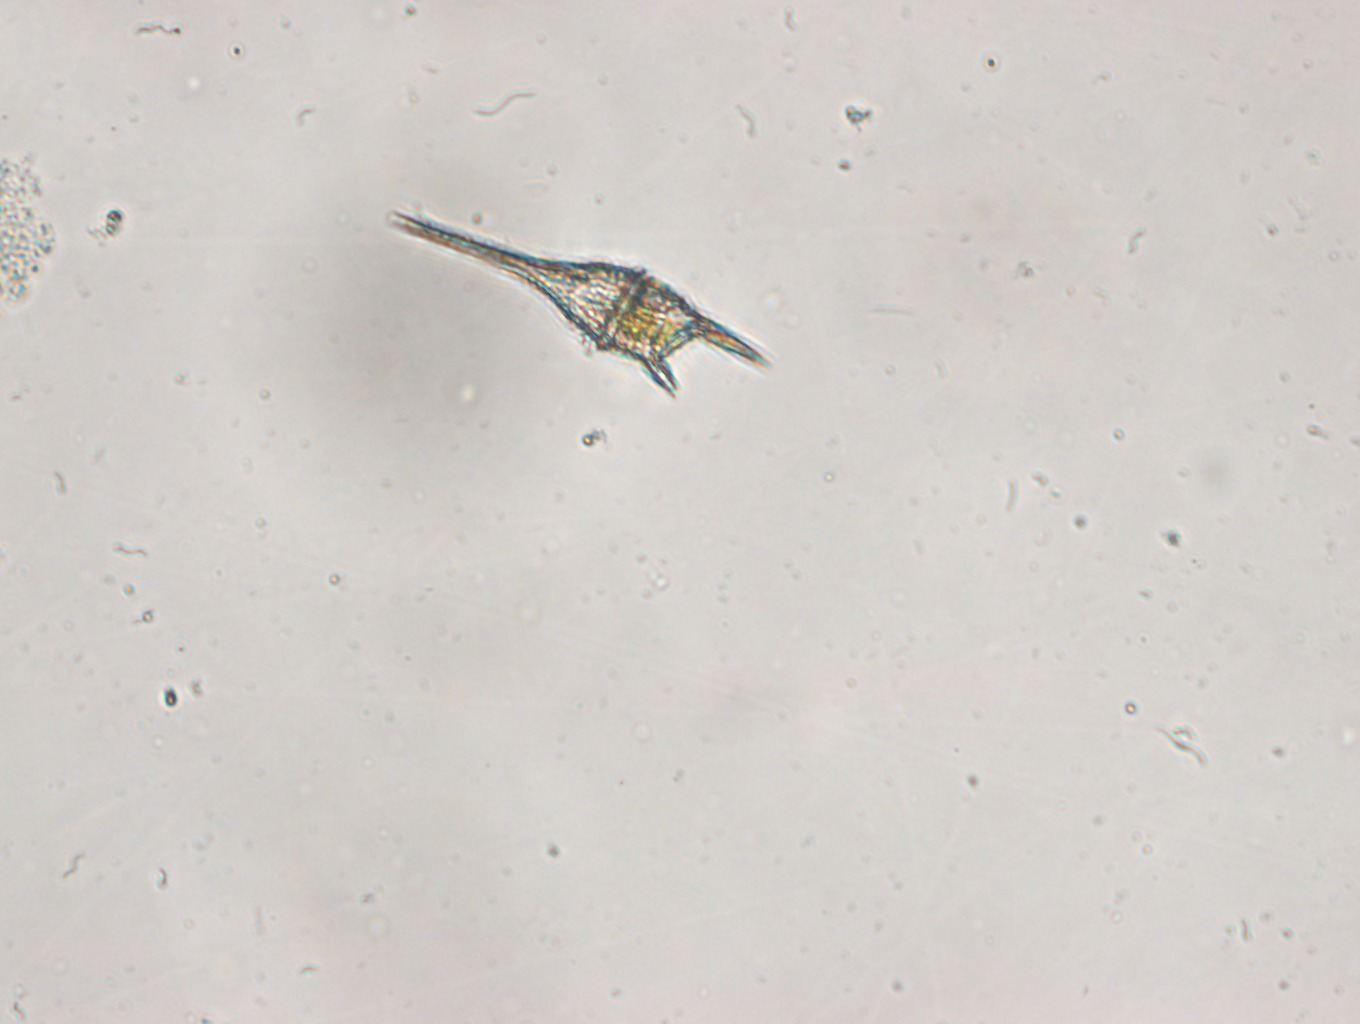ceratium furca: (377, 210, 774, 401)
